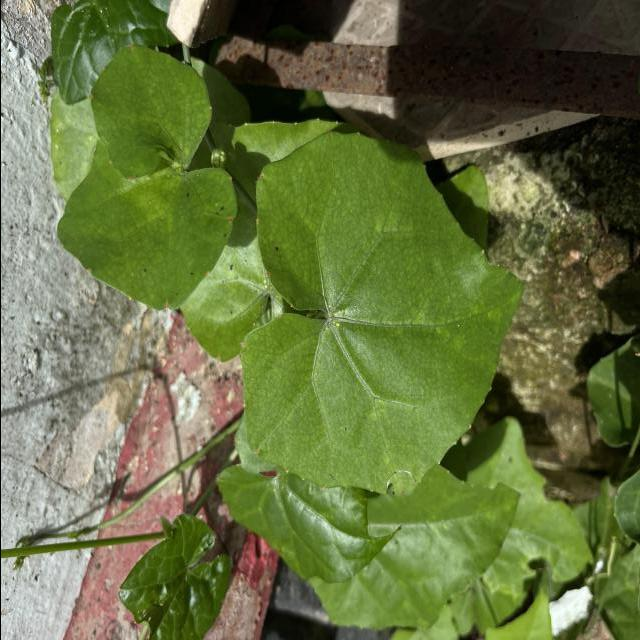Coccinia grandis: (236, 126, 525, 498)
